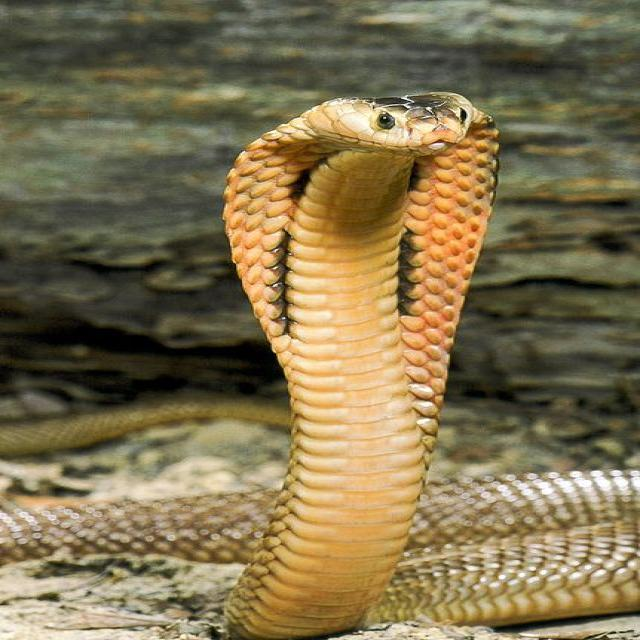Snake: (3, 81, 640, 634)
